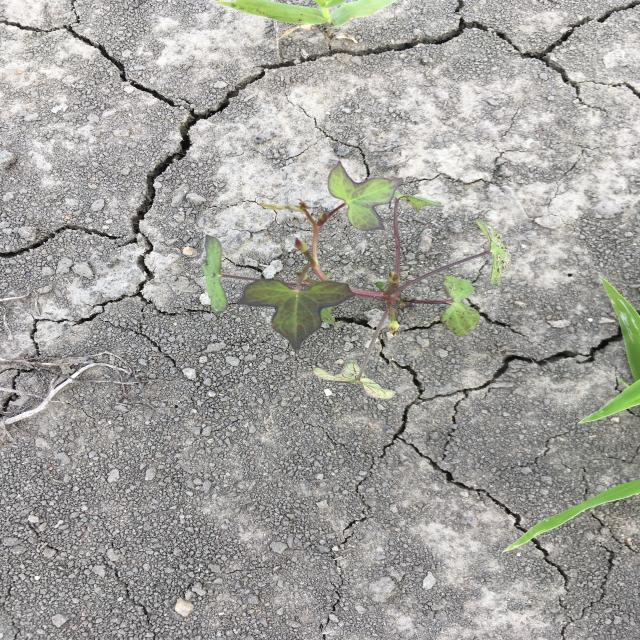MorningGlory: (199, 158, 514, 402)
